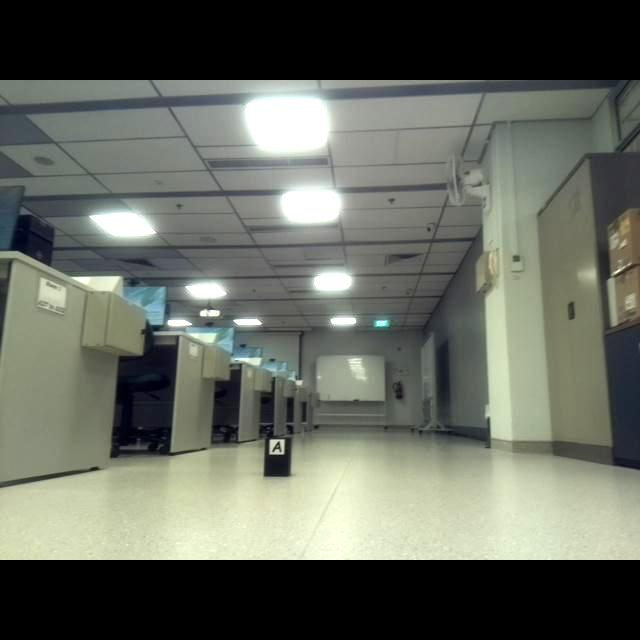A: (271, 440, 283, 453)
